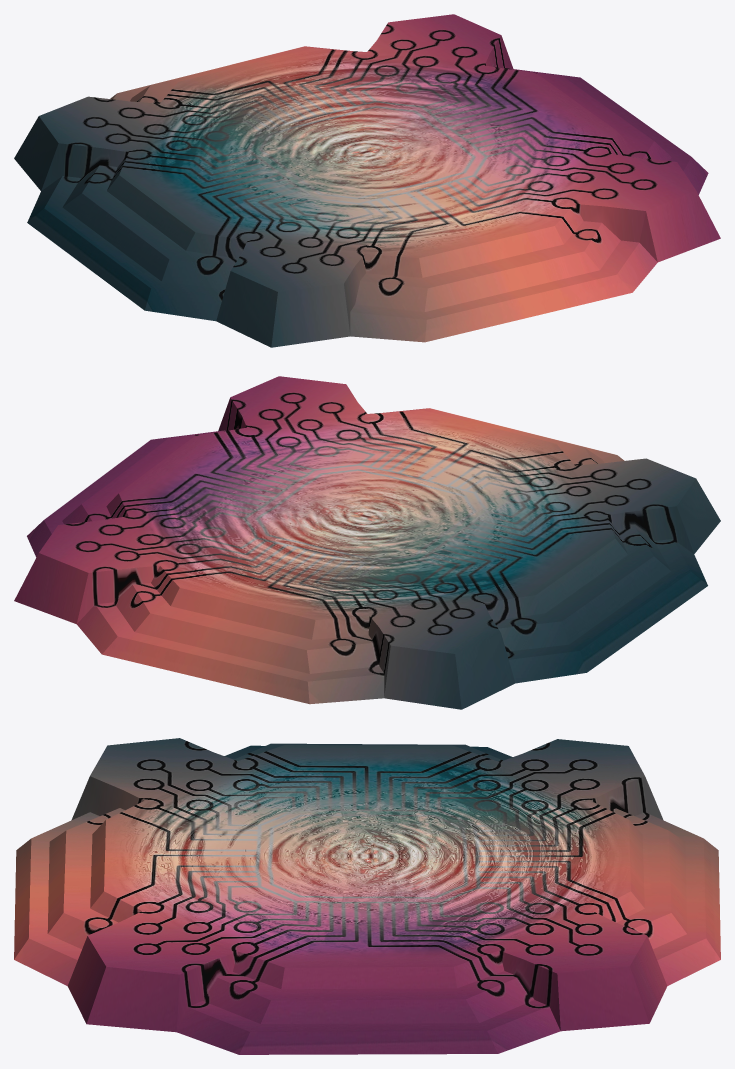
3 views of the same model, one above another, from view 1: azimuth 30°, elevation 25°; view 2: azimuth 150°, elevation 25°; view 3: azimuth 270°, elevation 25° (orthographic). The views are drawn at different scales.
Parts seen in each view (by area): view 1: Stand_HP; view 2: Stand_HP; view 3: Stand_HP.
Part boxes in pixels (bbox=[...]): Stand_HP: bbox=[14, 14, 720, 347]; Stand_HP: bbox=[14, 376, 720, 709]; Stand_HP: bbox=[14, 738, 720, 1054].
Size of the model in its own units: 0.6586 by 0.0506 by 0.6586.
1 material, 1 textured.
